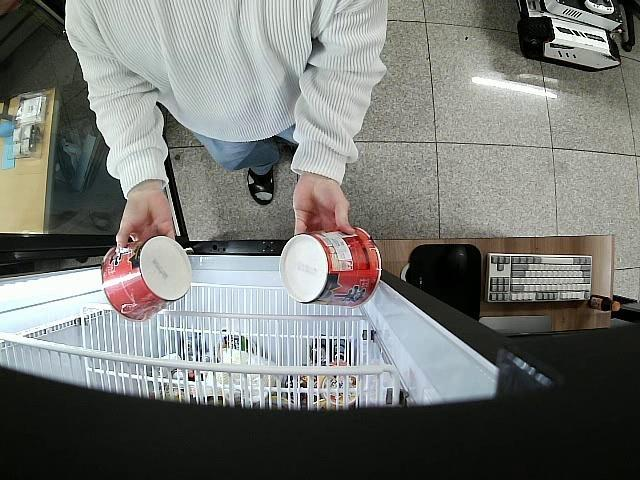01_ShinRamen_L: (278, 226, 381, 308), (102, 235, 193, 322)
